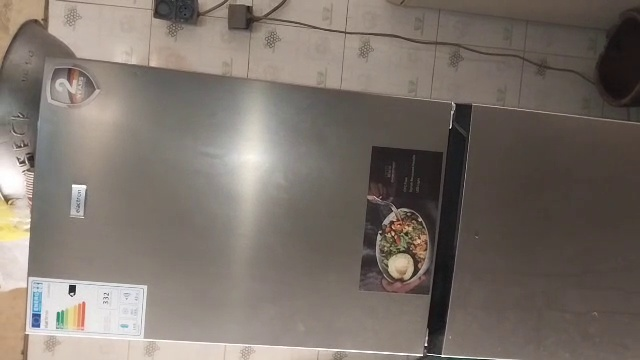refrigerator: (21, 46, 640, 360)
